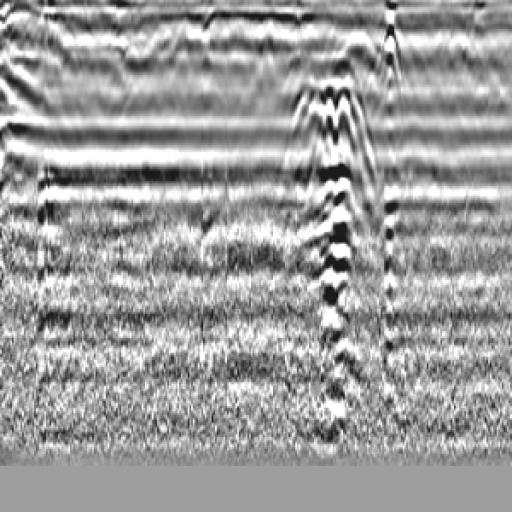non-metallic: (370, 1, 414, 124)
